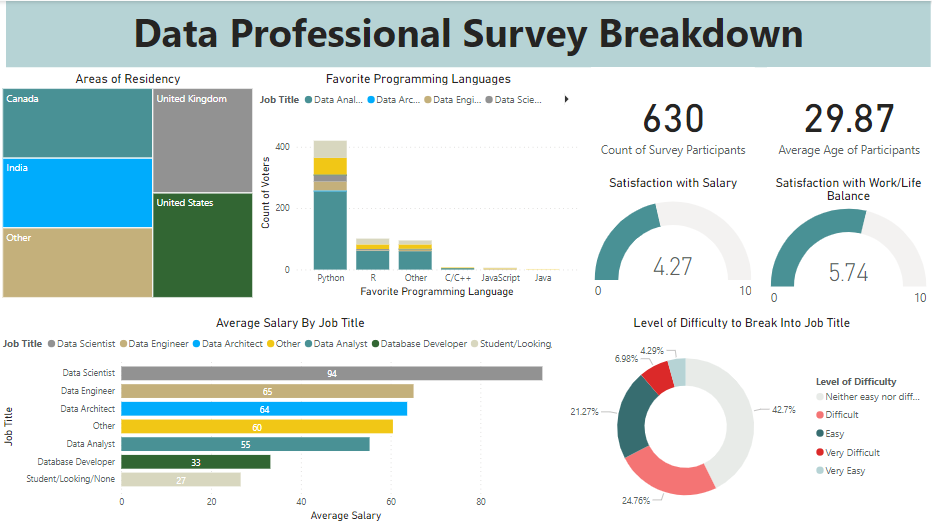

This screenshot's page, from the dashboard's own definition file:
{"tool":"powerbi","page":{"name":"Page 1","canvas":[1280,720],"ordinal":0},"visuals":[{"type":"textbox","box":[10.1,0,1269.9,90.6],"z":0},{"type":"card","fields":{"Values":["Count(Data Professional Survey.Unique ID)"]},"box":[813.7,90.8,225.3,148.7],"z":1000},{"type":"card","fields":{"Values":["Avg(Data Professional Survey.Q10 - Current Age)"]},"box":[1054.7,90.8,225.3,148.7],"z":2000},{"type":"barChart","title":"Average Salary  By Job Title","fields":{"Category":["Data Professional Survey.Q1 - Which Title Best Fits your Current Role?.1"],"Y":["Avg(Data Professional Survey.Average Salary)"],"Series":["Data Professional Survey.Q1 - Which Title Best Fits your Current Role?.1"]},"box":[0,431.9,799.6,287.9],"z":3000},{"type":"columnChart","title":"Favorite Programming Languages","fields":{"Category":["Data Professional Survey.Q5 - Favorite Programming Language.1"],"Y":["CountNonNull(Data Professional Survey.Unique ID)"],"Series":["Data Professional Survey.Q1 - Which Title Best Fits your Current Role?.1"]},"box":[353.6,95.5,446,316.1],"z":4000},{"type":"treemap","title":"Areas of Residency","fields":{"Group":["Data Professional Survey.Q11 - Which Country do you live in?.1"],"Values":["Count(Data Professional Survey.Q11 - Which Country do you live in?.1)"]},"box":[0,95.5,353.6,316.1],"z":5000},{"type":"gauge","title":"Satisfaction with Salary","fields":{"Y":["Avg(Data Professional Survey.Q6 - How Happy are you in your Current Position with the following? (Salary))"],"MinValue":["Min(Data Professional Survey.Q6 - How Happy are you in your Current Position with the following? (Salary))"],"MaxValue":["Max(Data Professional Survey.Q6 - How Happy are you in your Current Position with the following? (Salary))"]},"box":[813.7,239.4,225.3,192.5],"z":6000},{"type":"gauge","title":"Satisfaction with Work/Life Balance","fields":{"Y":["Avg(Data Professional Survey.Q6 - How Happy are you in your Current Position with the following? (Work/Life Balance))"],"MinValue":["Min(Data Professional Survey.Q6 - How Happy are you in your Current Position with the following? (Work/Life Balance))1"],"MaxValue":["Max(Data Professional Survey.Q6 - How Happy are you in your Current Position with the following? (Work/Life Balance))2"]},"box":[1054.7,239.4,223.8,192.5],"z":7000},{"type":"donutChart","title":"Level of Difficulty to Break Into Job Title","fields":{"Category":["Data Professional Survey.Q7 - How difficult was it for you to break into Data?"],"Y":["CountNonNull(Data Professional Survey.Q7 - How difficult was it for you to break into Data?)"]},"box":[758.9,431.9,521.1,287.9],"z":8000}]}

Visuals, with their boxes in screenshot pixels (x1, y1, x2, y2), scaled from the page's 1280x720 canvas onto the 932x524 screenshot:
textbox: locate(7, 0, 931, 66)
card - Count(Data Professional Survey.Unique ID): locate(592, 66, 757, 174)
card - Avg(Data Professional Survey.Q10 - Current Age): locate(768, 66, 931, 174)
"Average Salary  By Job Title" barChart: locate(0, 314, 582, 523)
"Favorite Programming Languages" columnChart: locate(257, 70, 582, 300)
"Areas of Residency" treemap: locate(0, 70, 257, 300)
"Satisfaction with Salary" gauge: locate(592, 174, 757, 314)
"Satisfaction with Work/Life Balance" gauge: locate(768, 174, 931, 314)
"Level of Difficulty to Break Into Job Title" donutChart: locate(553, 314, 931, 523)
